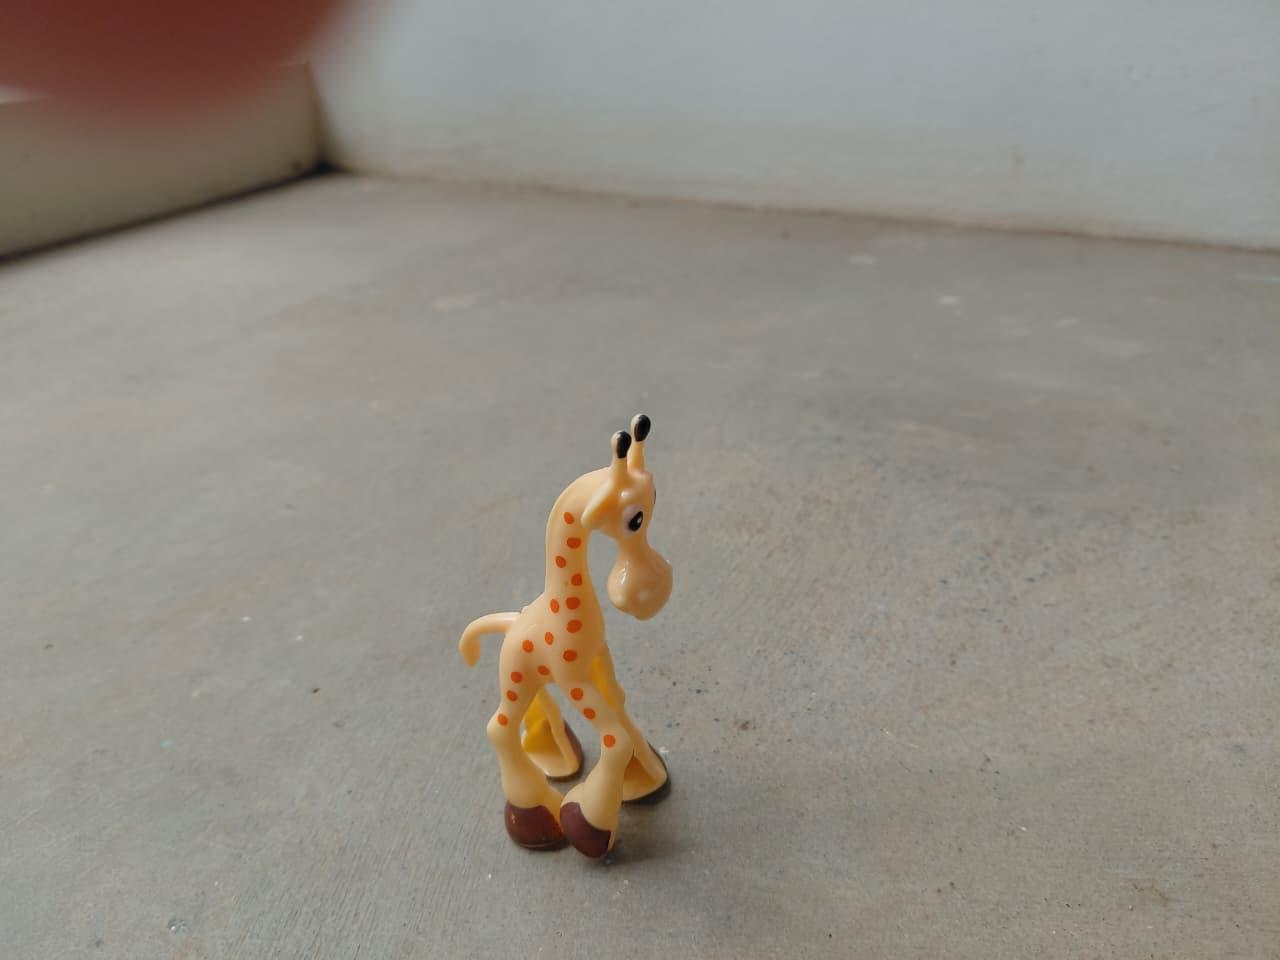giraffe: (432, 388, 733, 880)
